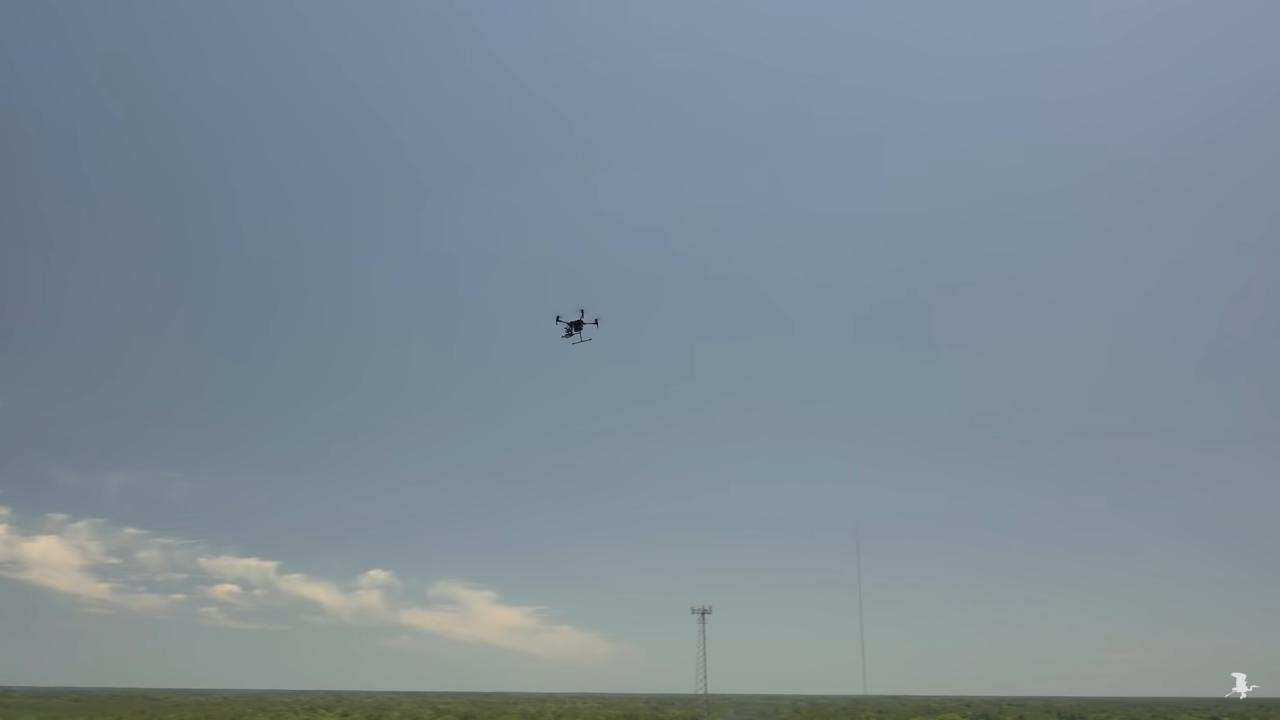Drone: (542, 299, 610, 355)
